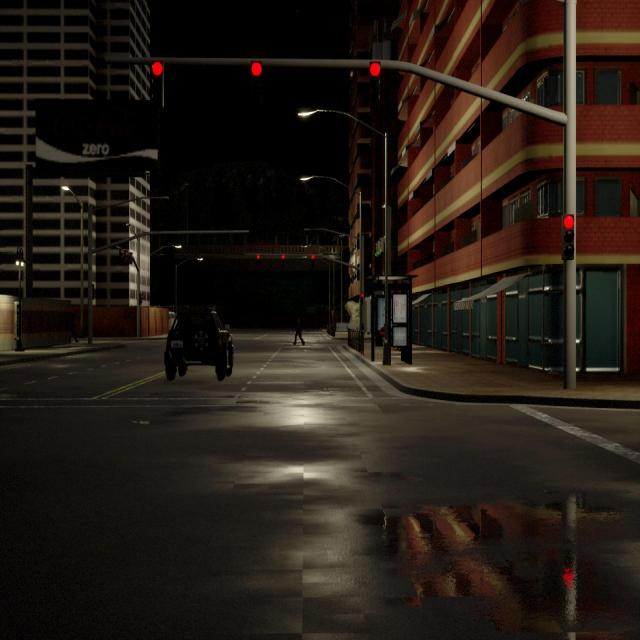Pedestrian: (293, 316, 304, 345)
Vehicle: (164, 308, 233, 381)
traffic_light: (562, 215, 574, 260), (153, 61, 163, 100), (251, 61, 263, 77), (369, 60, 380, 76), (124, 250, 128, 264), (360, 292, 364, 305), (139, 292, 143, 305), (120, 248, 123, 264), (130, 252, 133, 264), (256, 254, 260, 260), (281, 254, 285, 259), (311, 255, 315, 259)
